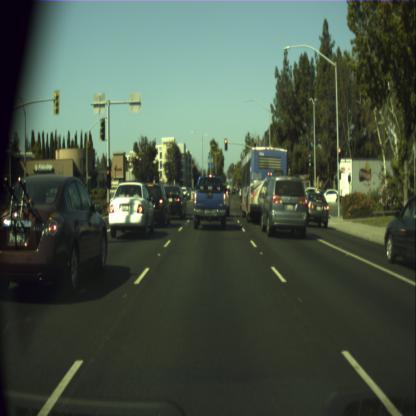Red: (106, 169, 111, 188), (338, 148, 341, 162), (224, 138, 227, 150)
